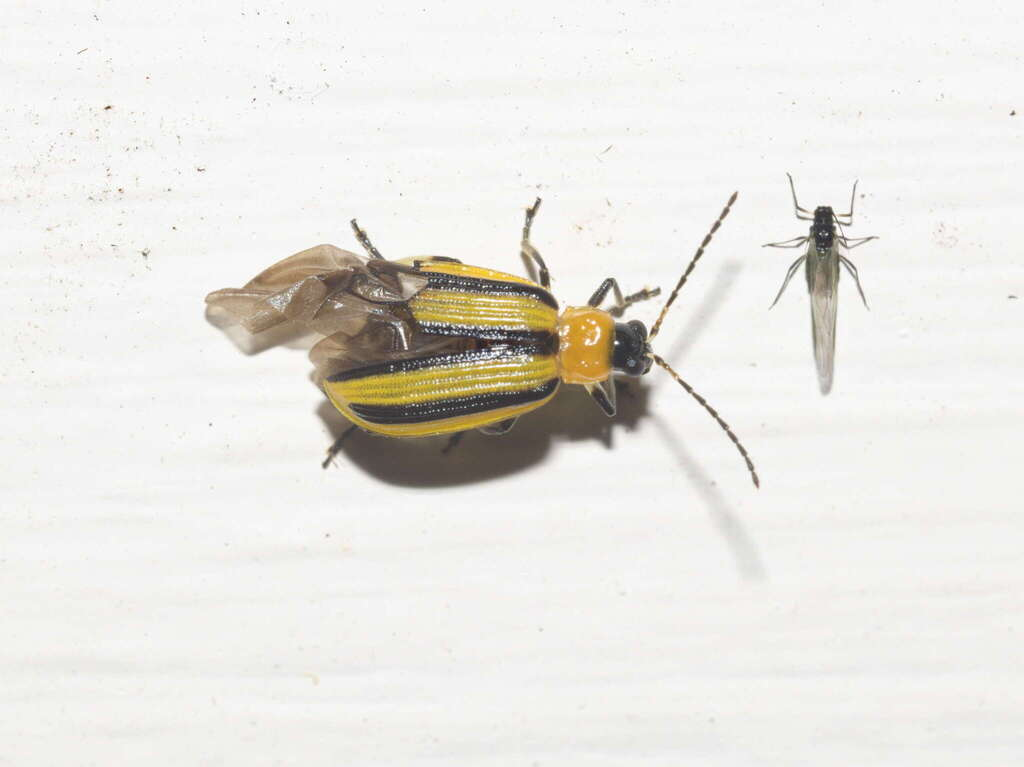potato_beetle: (153, 99, 839, 596)
